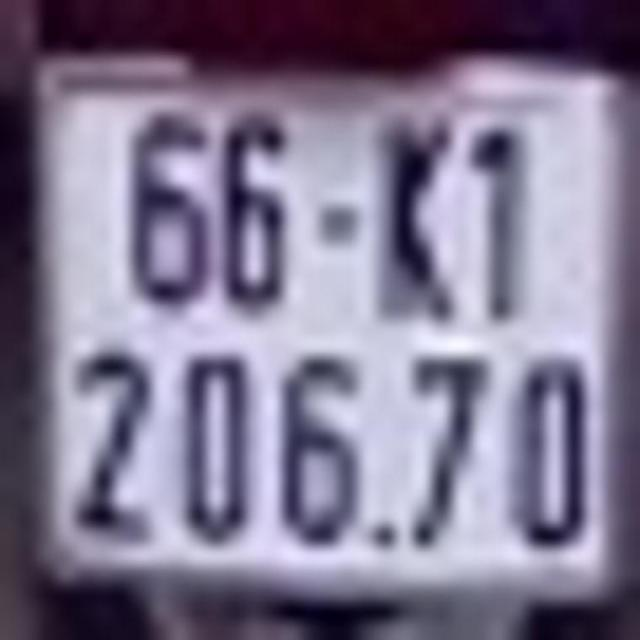0: (516, 353, 586, 546), (180, 349, 248, 538)
1: (468, 117, 529, 326)
2: (72, 352, 156, 543)
6: (282, 351, 361, 548), (132, 110, 209, 300), (221, 111, 287, 314)
7: (408, 349, 485, 546)
K: (382, 106, 460, 325)
